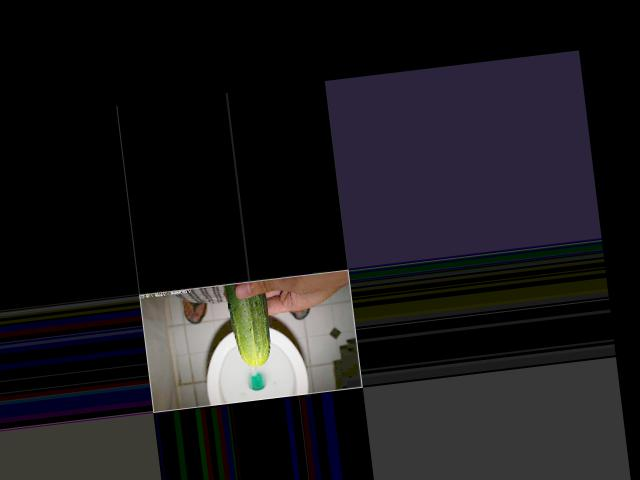cucumber: (223, 279, 273, 368)
